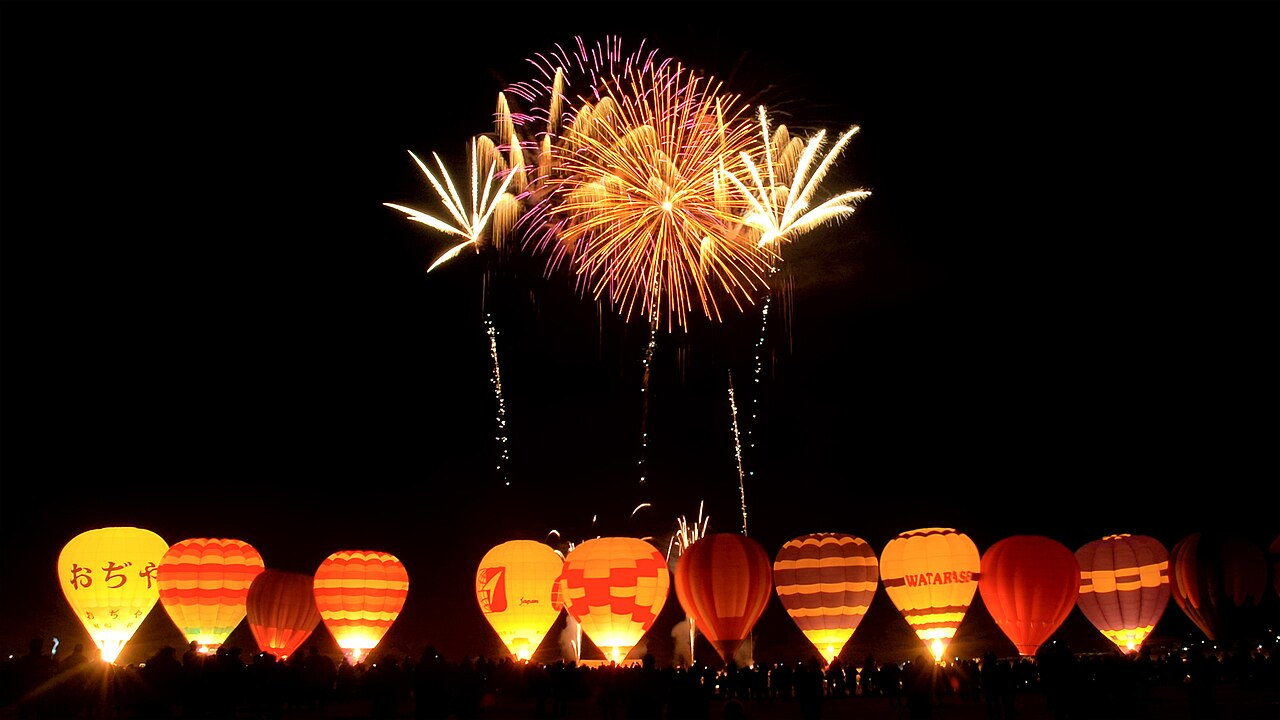balloon: (55, 497, 169, 662), (558, 536, 671, 662), (773, 531, 878, 662), (879, 526, 982, 658), (979, 534, 1082, 655), (673, 531, 772, 656), (1074, 532, 1172, 653), (312, 549, 410, 663), (155, 536, 265, 637), (475, 539, 566, 660), (1170, 531, 1265, 640), (246, 569, 321, 656)
